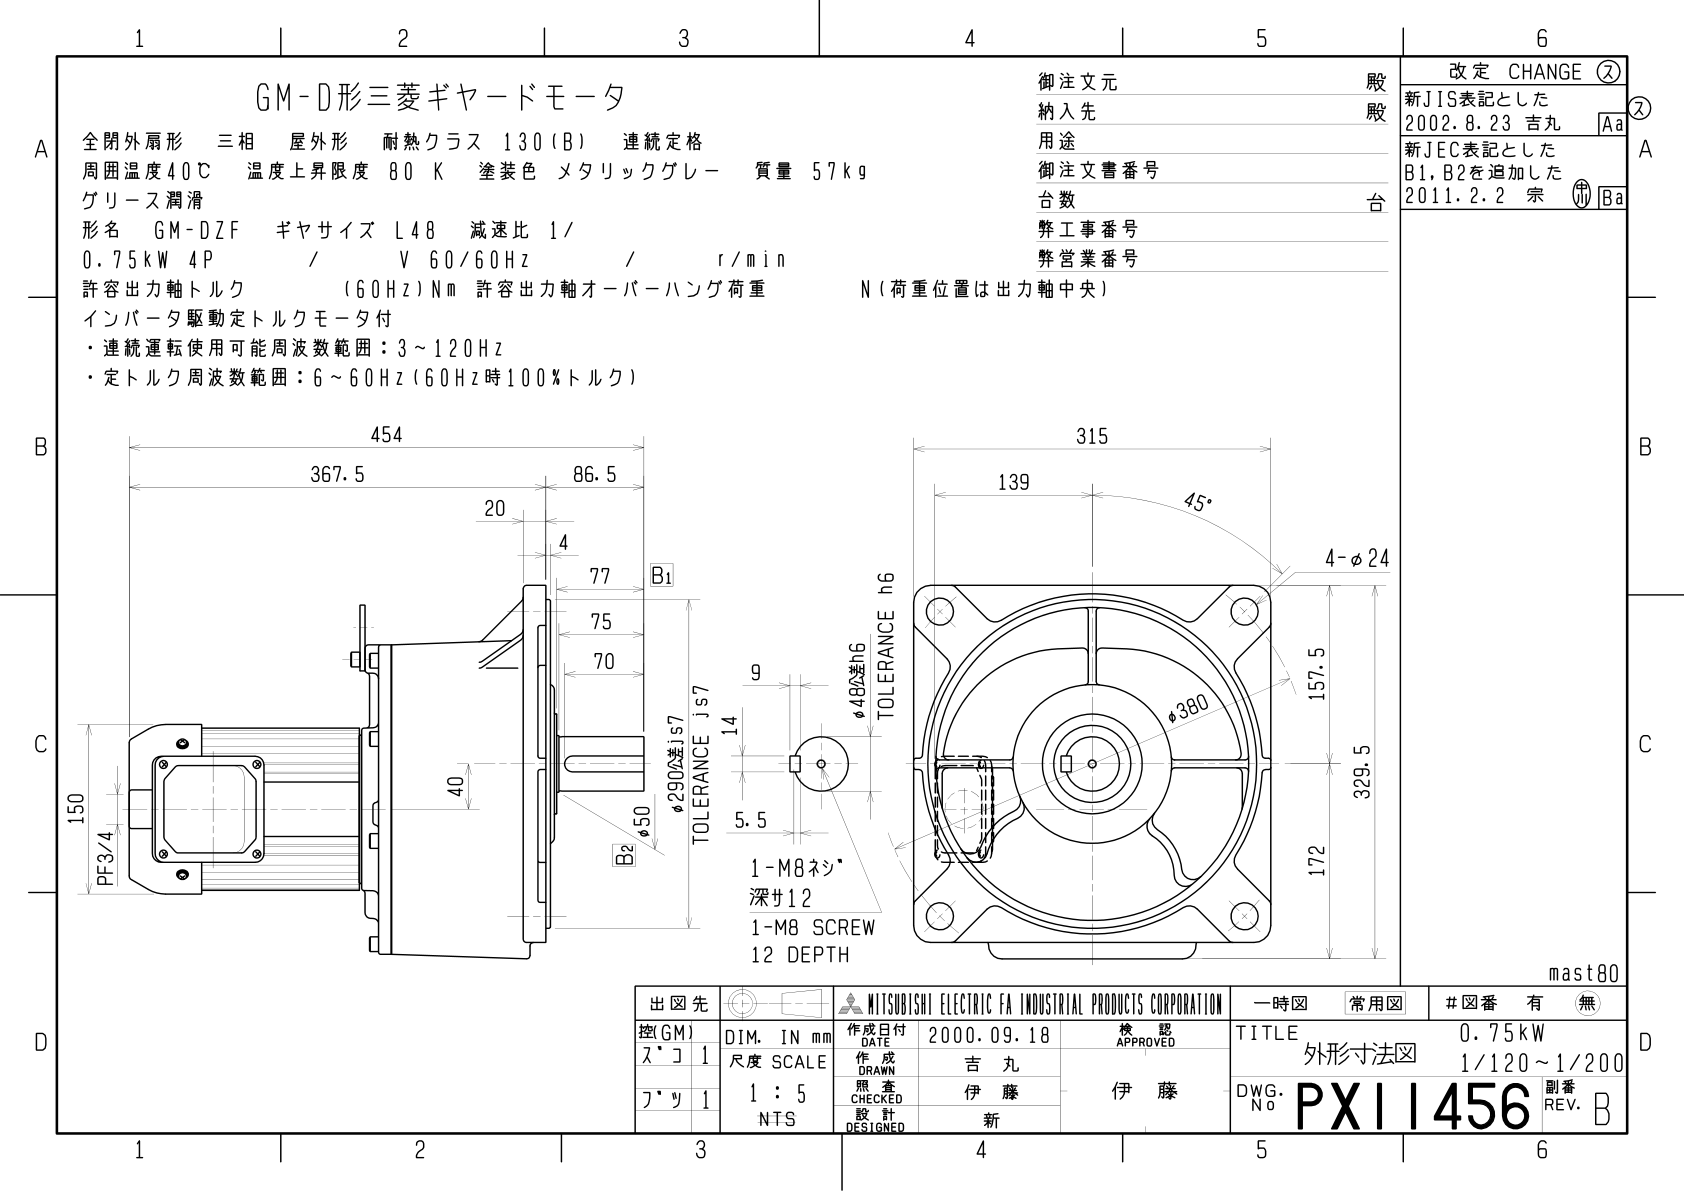GM_D_インバータ屋外_三相_フランジ: (58, 394, 1399, 980)
